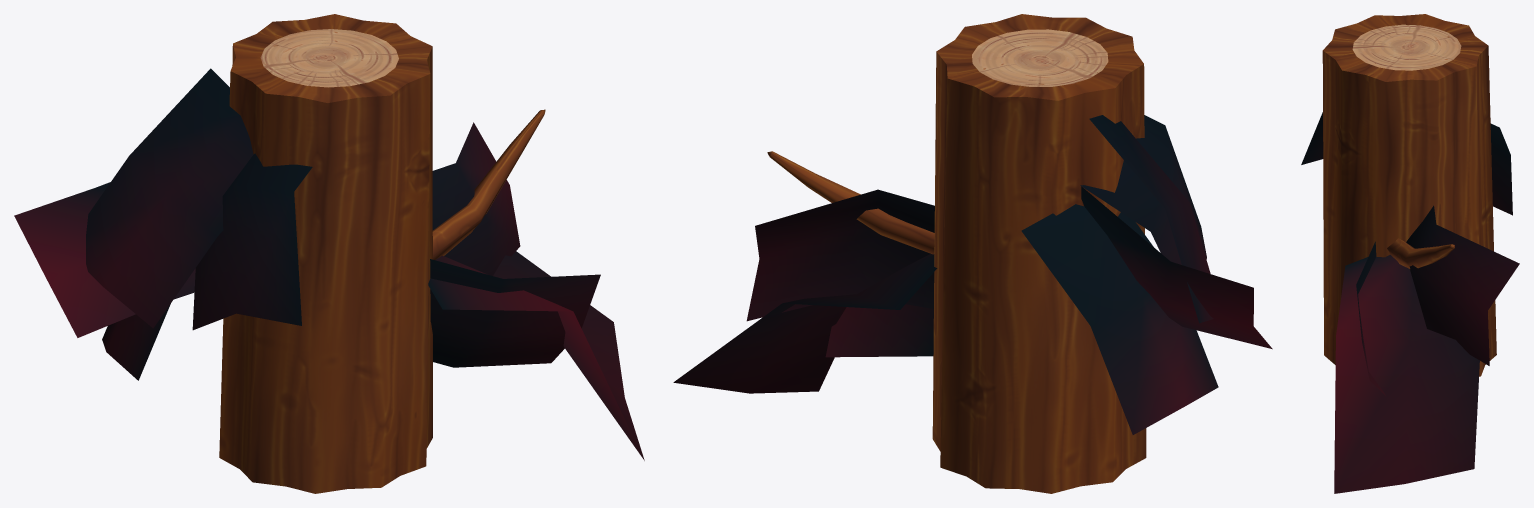
The model's file is obj_harvests_trees_pine03_p07.fbx.
3 renders of one model, left to right at view 1: azimuth 30°, elevation 25°; view 2: azimuth 150°, elevation 25°; view 3: azimuth 270°, elevation 25°, orthographic. The views are drawn at different scales.
Parts seen in each view (by area): view 1: chunk07; view 2: chunk07; view 3: chunk07.
Boxes of the visible parts, <box> form: chunk07: <box>14,14,644,493</box>; chunk07: <box>673,14,1272,493</box>; chunk07: <box>1301,14,1519,493</box>.
Bounding box in the file's own units: 12.69 × 8.9 × 5.15.
